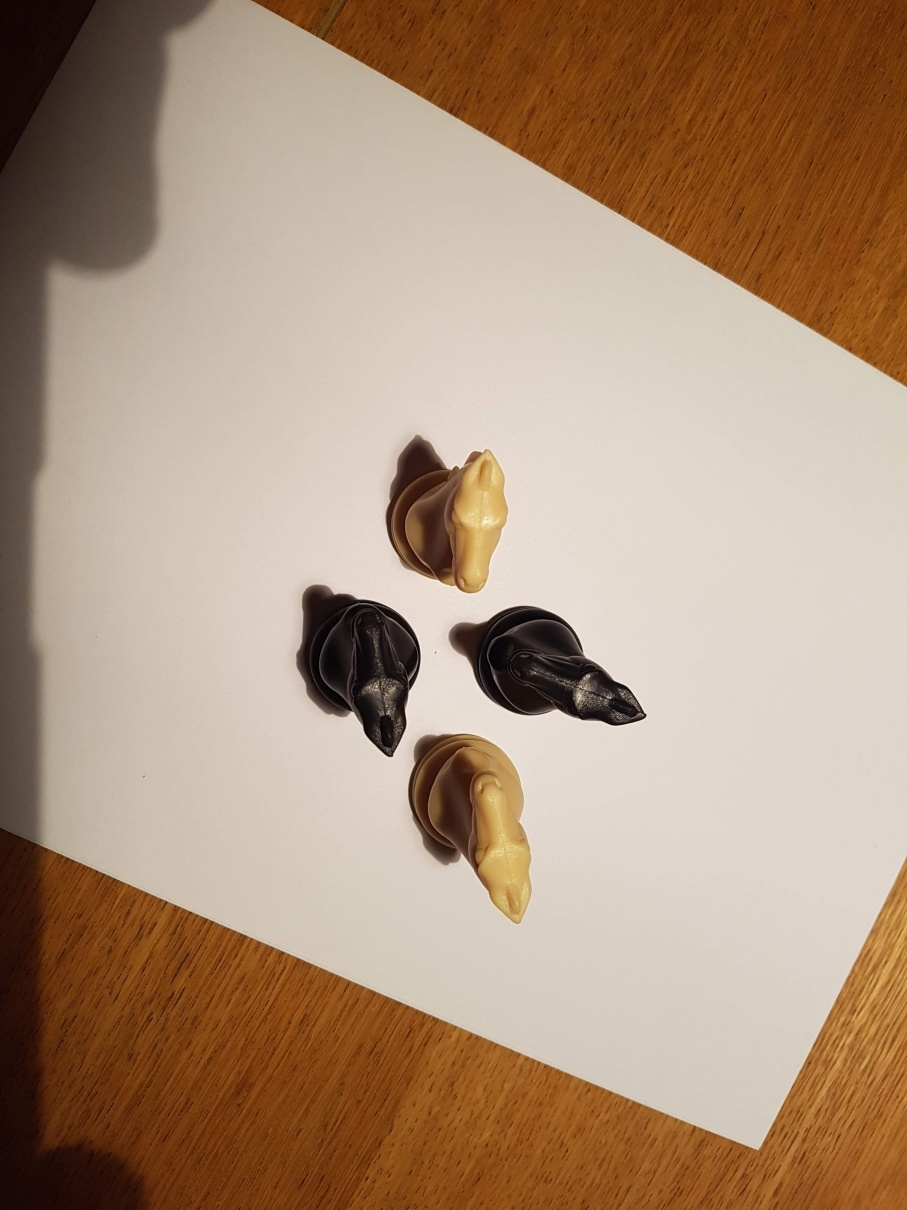chess_knight: (426, 744, 533, 925), (486, 605, 646, 725), (305, 594, 421, 755), (400, 450, 507, 595)
